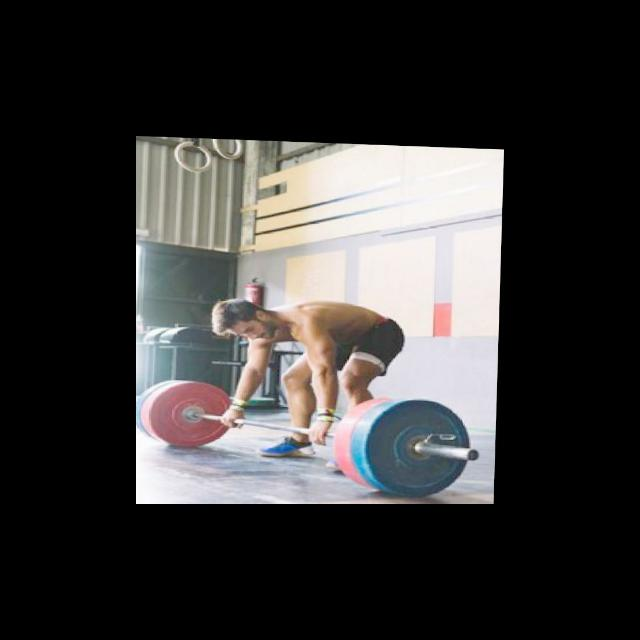barbell: (361, 391, 492, 501)
